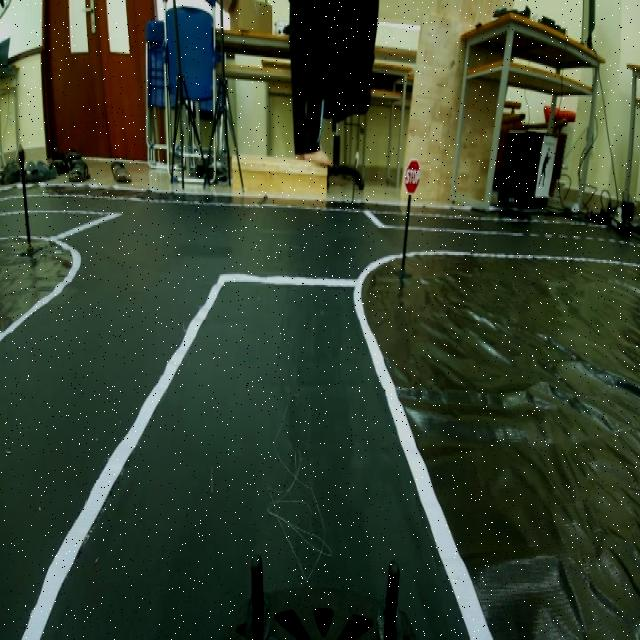stop: (406, 158, 423, 198)
